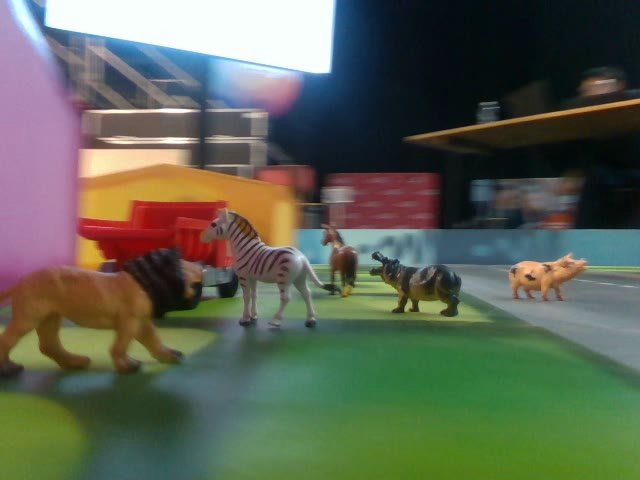toy: (2, 236, 199, 377), (202, 206, 330, 335), (369, 247, 471, 324), (498, 242, 591, 303)
